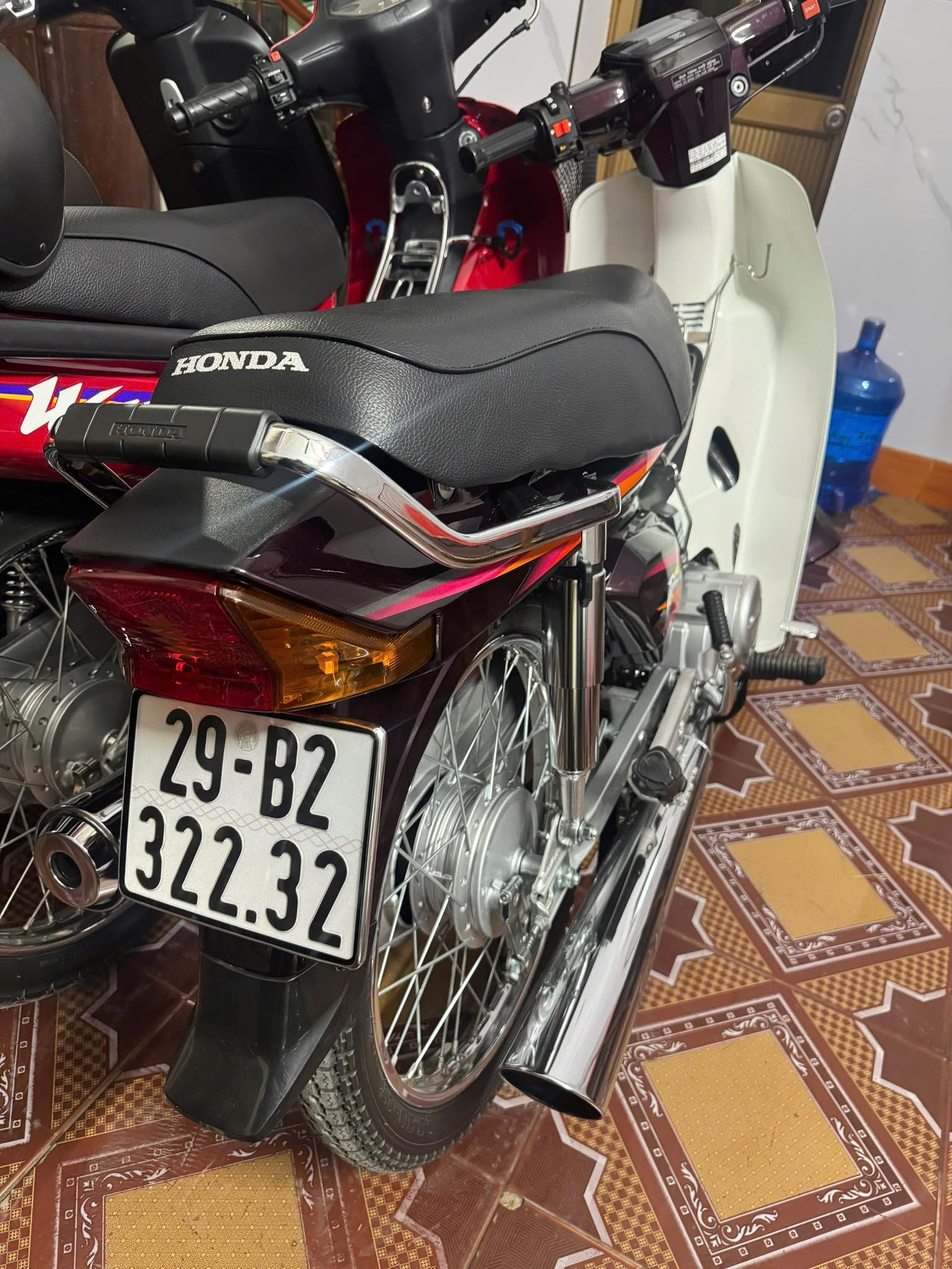bien_so: (110, 685, 404, 973)
